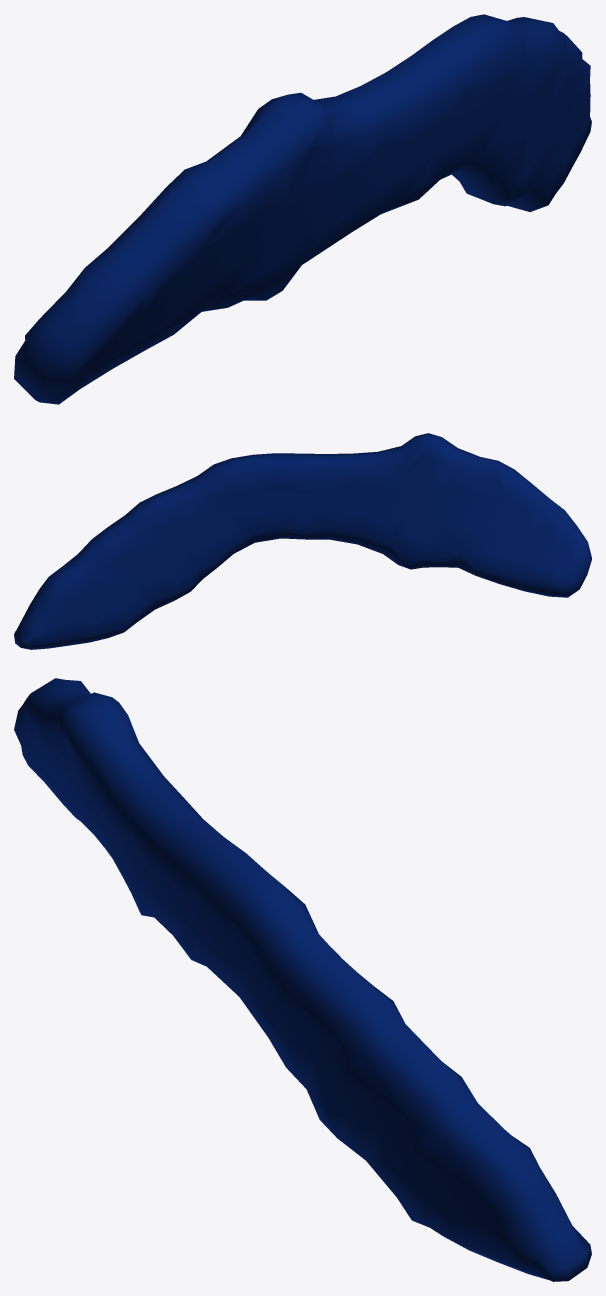
File: eyebrow2.glb
3 views of the same model, one above another, from view 1: azimuth 30°, elevation 25°; view 2: azimuth 150°, elevation 25°; view 3: azimuth 270°, elevation 25° (orthographic). The views are drawn at different scales.
Parts seen in each view (by area): view 1: Mesh.006; view 2: Mesh.006; view 3: Mesh.006.
Boxes of the visible parts, bbox=[...] form: Mesh.006: bbox=[14, 14, 591, 404]; Mesh.006: bbox=[14, 433, 591, 649]; Mesh.006: bbox=[14, 678, 591, 1281].
Bounding box in the file's own units: 0.4482 × 0.1818 × 0.2799.
